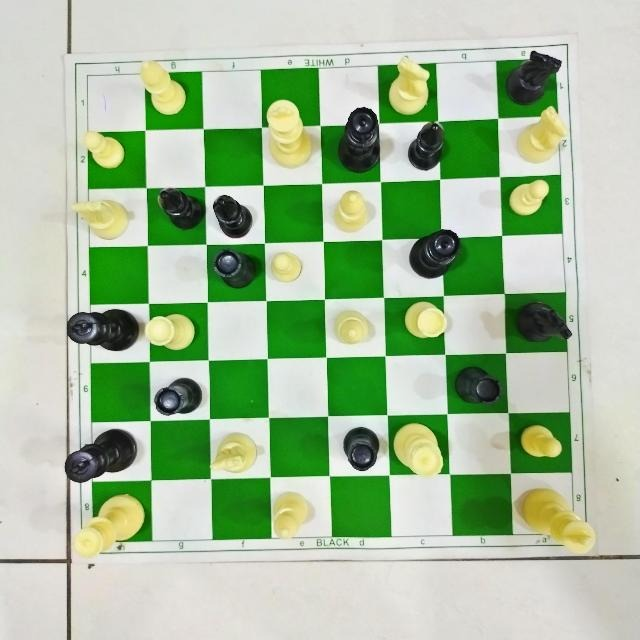black-bishop: (155, 181, 207, 234), (211, 187, 263, 239), (402, 120, 454, 172)
black-king: (61, 420, 139, 486), (61, 303, 142, 361)
black-knight: (511, 292, 580, 347), (504, 53, 561, 106)
black-queen: (335, 108, 389, 173), (407, 226, 462, 285)
black-rook: (152, 372, 204, 420), (340, 421, 384, 476), (211, 246, 261, 292), (454, 361, 504, 407)
white-bishop: (131, 56, 191, 121), (266, 483, 318, 538), (327, 303, 375, 351), (333, 183, 377, 233)
white-king: (517, 481, 603, 559), (262, 97, 317, 166)
white-knight: (204, 426, 268, 486), (66, 188, 135, 243), (513, 109, 571, 167), (382, 58, 434, 118)
white-pawn: (512, 417, 567, 469), (79, 126, 129, 174), (506, 174, 554, 222), (264, 245, 305, 284)
white-queen: (62, 492, 148, 562), (388, 418, 456, 490)
white-rook: (141, 306, 203, 358), (392, 298, 452, 350)
